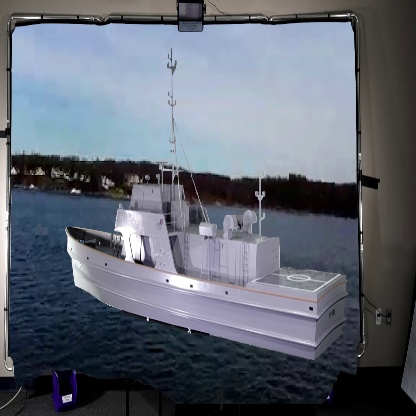YP689: (64, 50, 349, 363)
